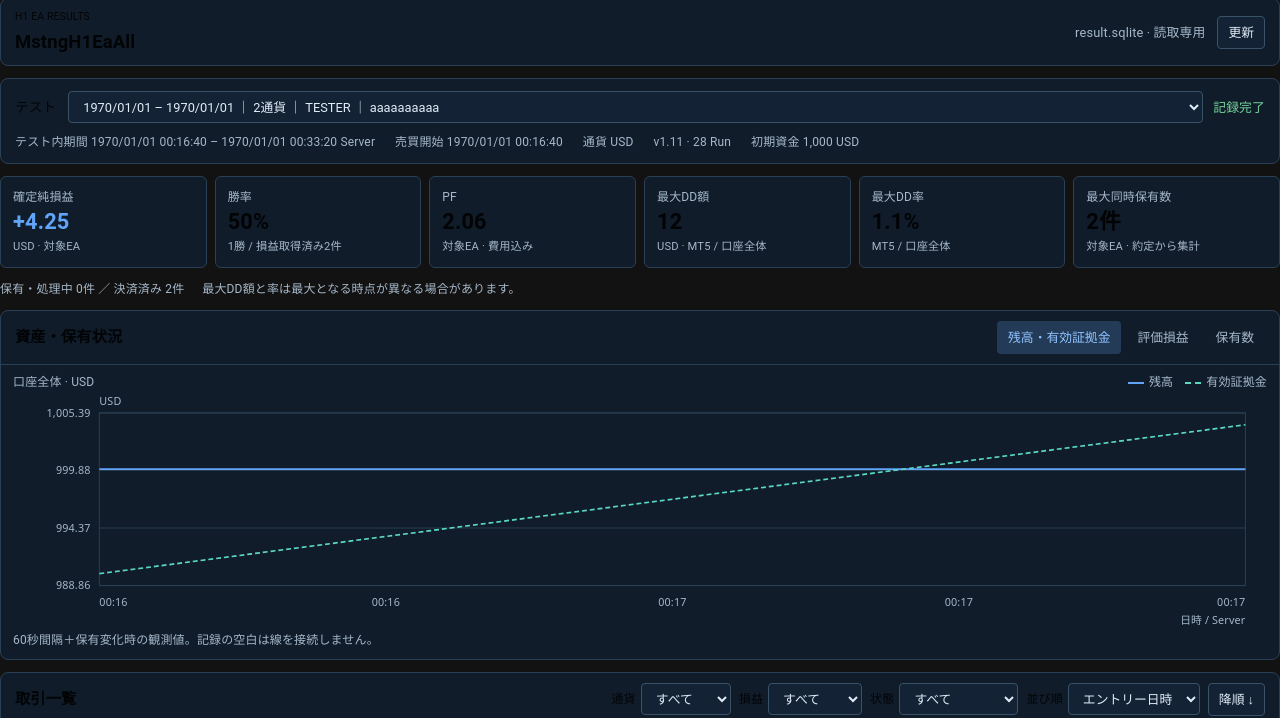
Scenario: H1 EA results › ignores a slow obsolete filter response
The width and height of the screenshot is (1280, 718).
Select "損失のみ" in the dropdown labelled "損益" at (815, 699), box left=768, top=683, right=862, bottom=715
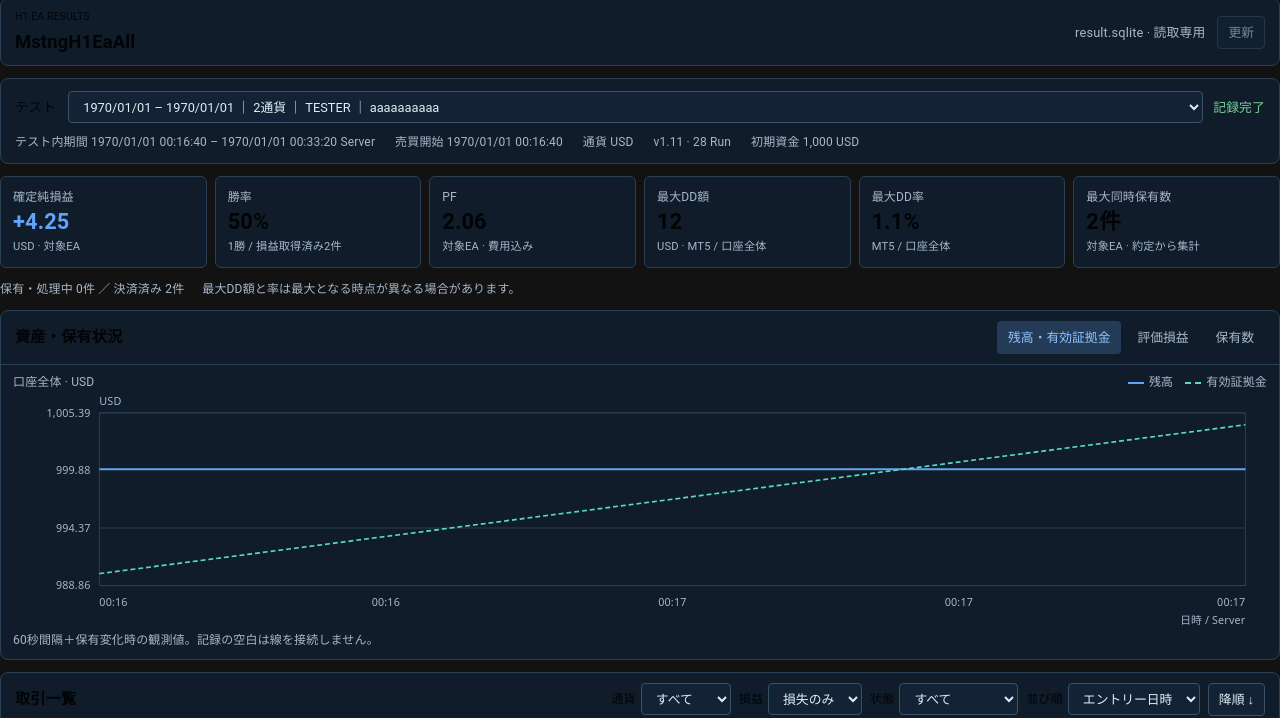
Select "利益のみ" in the dropdown labelled "損益" at (815, 699), box left=768, top=683, right=862, bottom=715
(page scrolled)
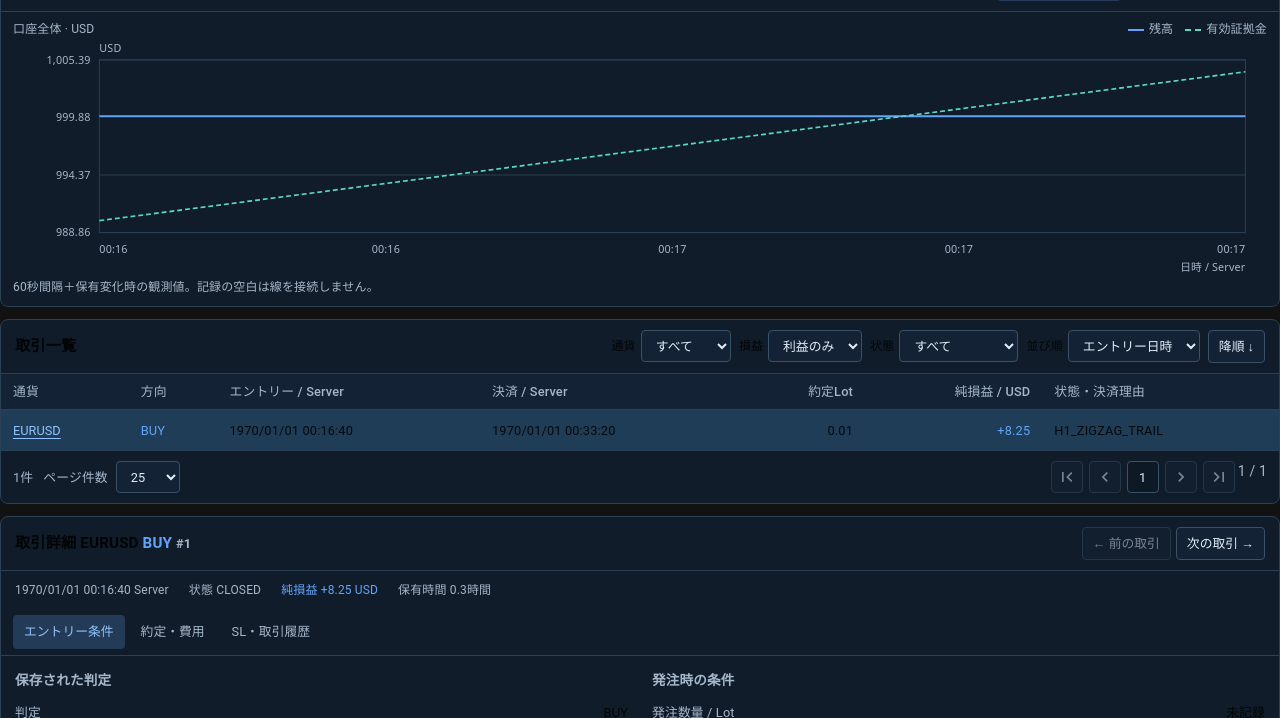
Expected: the button with aria-label "EURUSD 取引1の詳細" is shown, left=13, top=418, right=61, bottom=442
